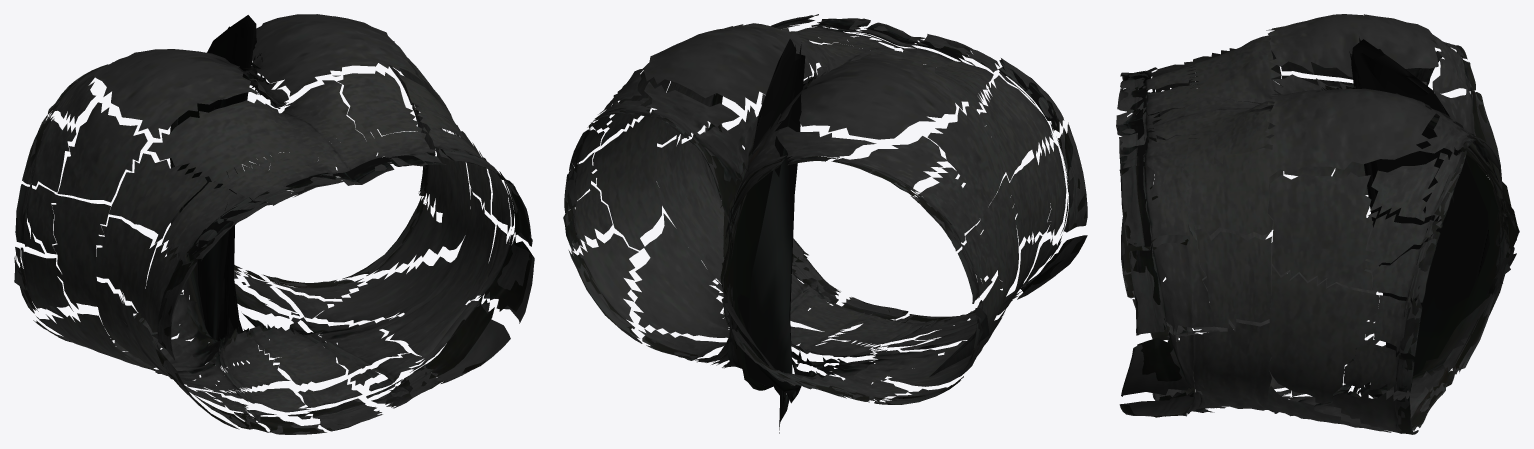
File: adult-base-01.mobile.glb
The picture shows the model from 3 angles, left to right: view 1: azimuth 30°, elevation 25°; view 2: azimuth 150°, elevation 25°; view 3: azimuth 270°, elevation 25°; orthographic projection. The views are drawn at different scales.
Visible parts, largest first — view 1: geometry_0; view 2: geometry_0; view 3: geometry_0.
Boxes of the visible parts, x1,y1,x2,y2 form: geometry_0: (14,14,534,434); geometry_0: (563,14,1087,433); geometry_0: (1116,14,1519,434).
Bounding box in the file's own units: 0.00385 × 0.00328 × 0.00307.
1 material, 1 textured.
